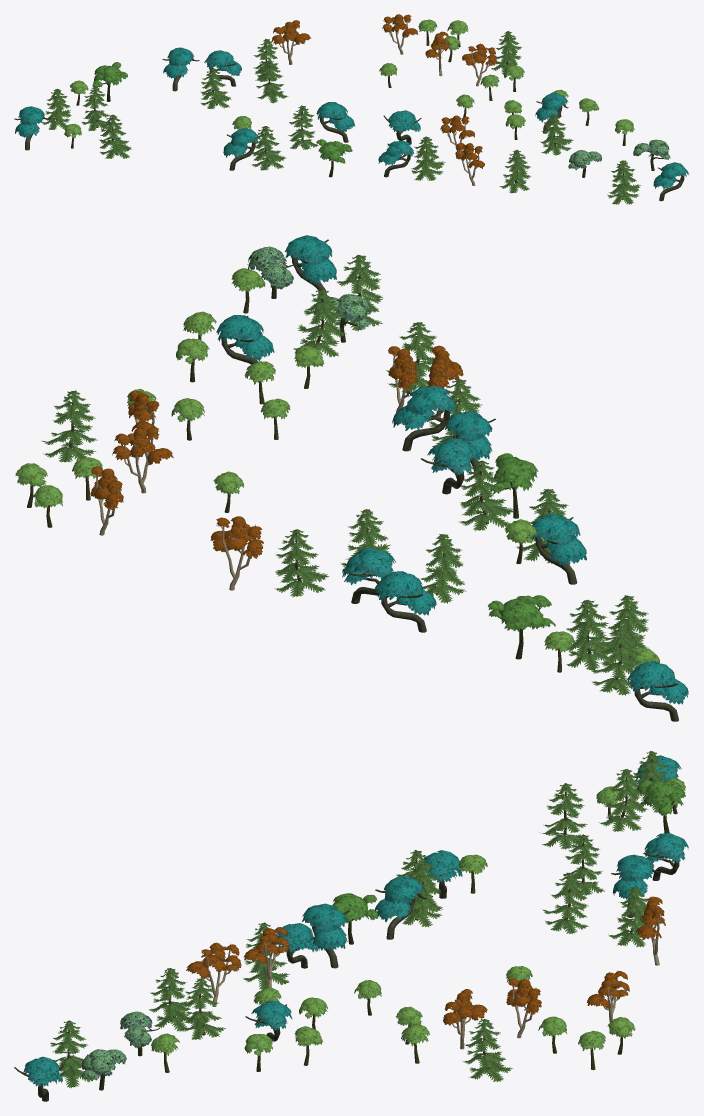
File: overworld-1-5.gltf
3 views of the same model, one above another, from view 1: azimuth 30°, elevation 25°; view 2: azimuth 150°, elevation 25°; view 3: azimuth 270°, elevation 25° (orthographic). The views are drawn at different scales.
Visible parts, largest first — view 1: 7e2e11a73c6c1f6b77c7c18c44a87655900818e94c168e7a92bb0a48cc87 (×13), 883bf022a4c95c0b0a24ce14e7511dc7b18eb62759134961097aa30193af (×9), 133dae8ce562dbc4cbf0d0d2cb7dc4cb2baafed83b6c58ebd4446a365708 (×6), cf73d73e4a52b629e942c4cf3ba67a960257f3fda86af0eadf8051aa3c1f (×2), 629e78b439d8b314fb62411e16a47eeeaf0f6f78bb3f3150468167c9e9d3 (×2); view 2: 7e2e11a73c6c1f6b77c7c18c44a87655900818e94c168e7a92bb0a48cc87 (×13), 883bf022a4c95c0b0a24ce14e7511dc7b18eb62759134961097aa30193af (×9), 133dae8ce562dbc4cbf0d0d2cb7dc4cb2baafed83b6c58ebd4446a365708 (×6), cf73d73e4a52b629e942c4cf3ba67a960257f3fda86af0eadf8051aa3c1f (×2), 629e78b439d8b314fb62411e16a47eeeaf0f6f78bb3f3150468167c9e9d3 (×2); view 3: 7e2e11a73c6c1f6b77c7c18c44a87655900818e94c168e7a92bb0a48cc87 (×13), 883bf022a4c95c0b0a24ce14e7511dc7b18eb62759134961097aa30193af (×9), 133dae8ce562dbc4cbf0d0d2cb7dc4cb2baafed83b6c58ebd4446a365708 (×6), cf73d73e4a52b629e942c4cf3ba67a960257f3fda86af0eadf8051aa3c1f (×2), 629e78b439d8b314fb62411e16a47eeeaf0f6f78bb3f3150468167c9e9d3 (×2), 8480a643e36c0194bf11e79cbc019e38e5ff72b8bc295b144212e5f7a5b3.
Boxes of the visible parts, x1,y1,x2,y2 form: 7e2e11a73c6c1f6b77c7c18c44a87655900818e94c168e7a92bb0a48cc87 (×13): (42, 31, 640, 204); 883bf022a4c95c0b0a24ce14e7511dc7b18eb62759134961097aa30193af (×9): (14, 47, 688, 201); 133dae8ce562dbc4cbf0d0d2cb7dc4cb2baafed83b6c58ebd4446a365708 (×6): (271, 14, 496, 185); cf73d73e4a52b629e942c4cf3ba67a960257f3fda86af0eadf8051aa3c1f (×2): (92, 62, 352, 177); 629e78b439d8b314fb62411e16a47eeeaf0f6f78bb3f3150468167c9e9d3 (×2): (568, 139, 670, 177); 7e2e11a73c6c1f6b77c7c18c44a87655900818e94c168e7a92bb0a48cc87 (×13): (41, 255, 649, 695); 883bf022a4c95c0b0a24ce14e7511dc7b18eb62759134961097aa30193af (×9): (216, 235, 688, 721); 133dae8ce562dbc4cbf0d0d2cb7dc4cb2baafed83b6c58ebd4446a365708 (×6): (90, 345, 463, 590); cf73d73e4a52b629e942c4cf3ba67a960257f3fda86af0eadf8051aa3c1f (×2): (488, 453, 555, 659); 629e78b439d8b314fb62411e16a47eeeaf0f6f78bb3f3150468167c9e9d3 (×2): (247, 246, 370, 342); 7e2e11a73c6c1f6b77c7c18c44a87655900818e94c168e7a92bb0a48cc87 (×13): (50, 751, 672, 1087); 883bf022a4c95c0b0a24ce14e7511dc7b18eb62759134961097aa30193af (×9): (14, 755, 688, 1101); 133dae8ce562dbc4cbf0d0d2cb7dc4cb2baafed83b6c58ebd4446a365708 (×6): (186, 896, 665, 1049); cf73d73e4a52b629e942c4cf3ba67a960257f3fda86af0eadf8051aa3c1f (×2): (332, 780, 685, 944); 629e78b439d8b314fb62411e16a47eeeaf0f6f78bb3f3150468167c9e9d3 (×2): (81, 1011, 159, 1090); 8480a643e36c0194bf11e79cbc019e38e5ff72b8bc295b144212e5f7a5b3: (244, 1034, 272, 1071).
Bounding box in the file's own units: 82.1 × 10.62 × 73.09.
12 materials, 12 textured.
